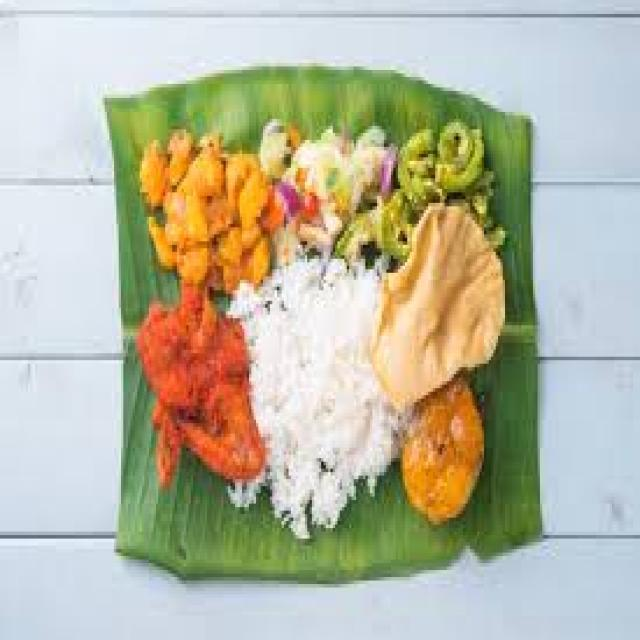papad: (362, 211, 520, 391)
rice: (246, 262, 385, 527)
veg-fry: (123, 293, 268, 487), (130, 126, 280, 295)
